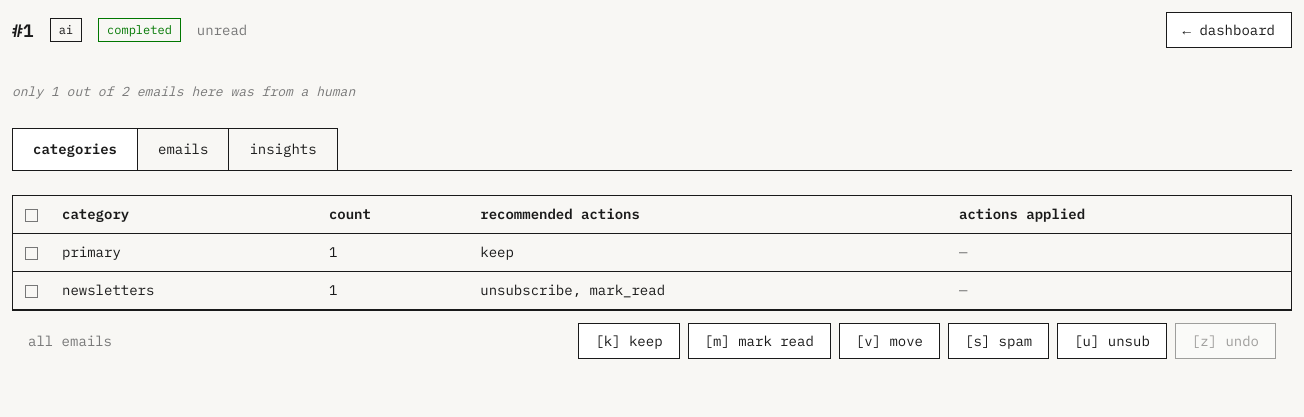
Scenario: AnalysisPage - Emails Tab › shows selection count in action scope
The image size is (1304, 417).
Check: the text "primary" is shown, box [50, 233, 317, 271]
Click the text "emails" at (183, 148), box [137, 128, 229, 170]
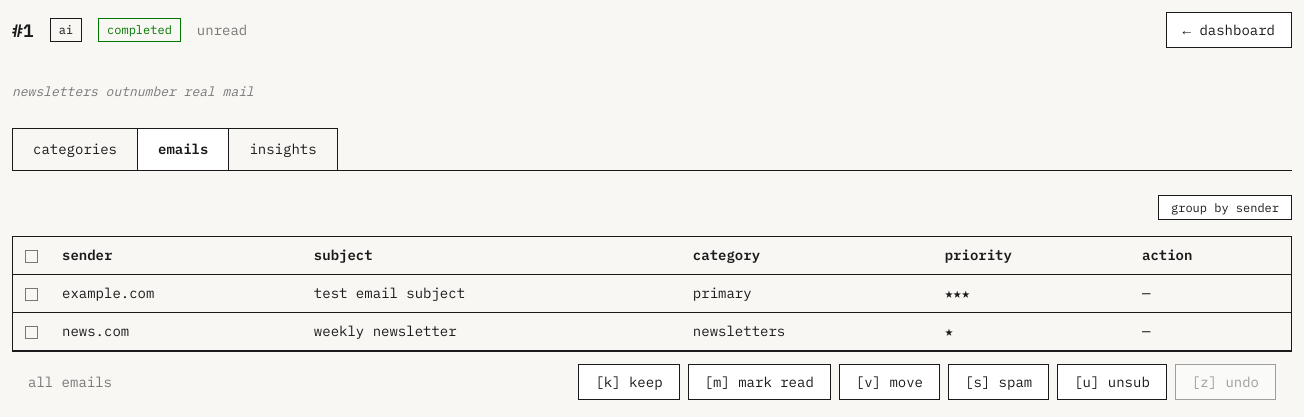
Act — select one email
Click the checkbox next to "example.com" at (32, 294), box [25, 287, 38, 300]
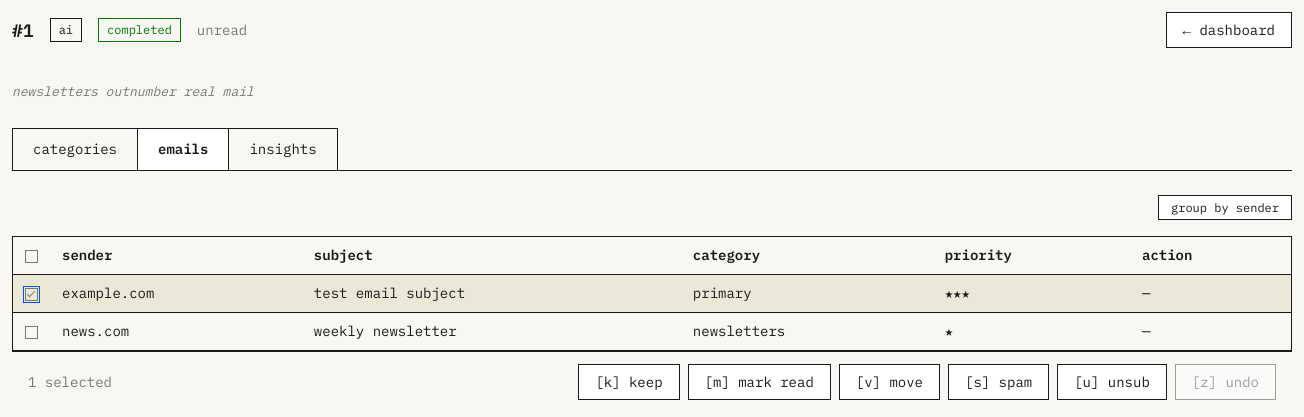
Check: the text "1 selected" is shown, box [28, 371, 112, 392]
